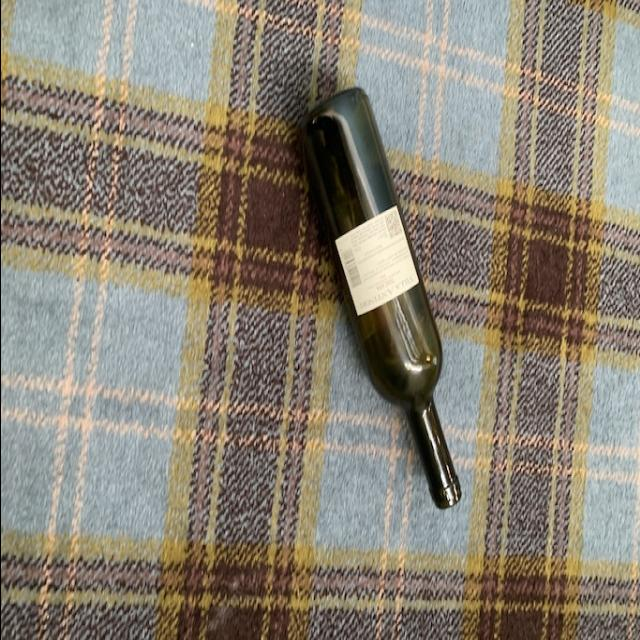Glass Bottle: (294, 83, 459, 515)
